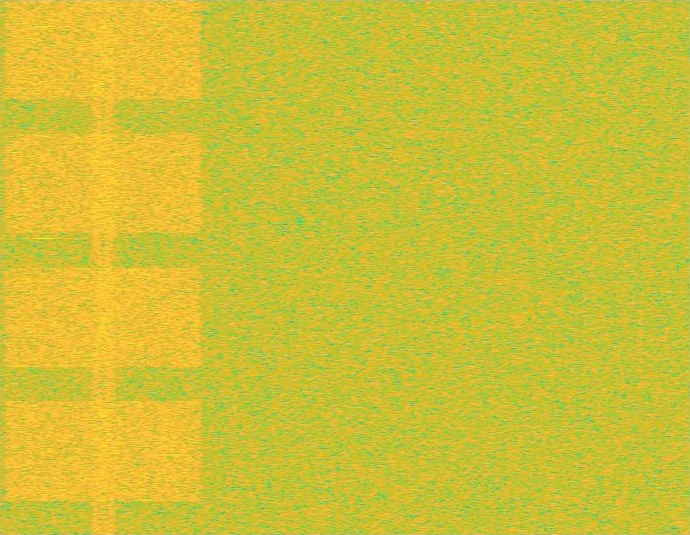5G: (0, 0, 207, 534)
DSSS: (90, 0, 117, 534)
Radar: (38, 0, 52, 534)
